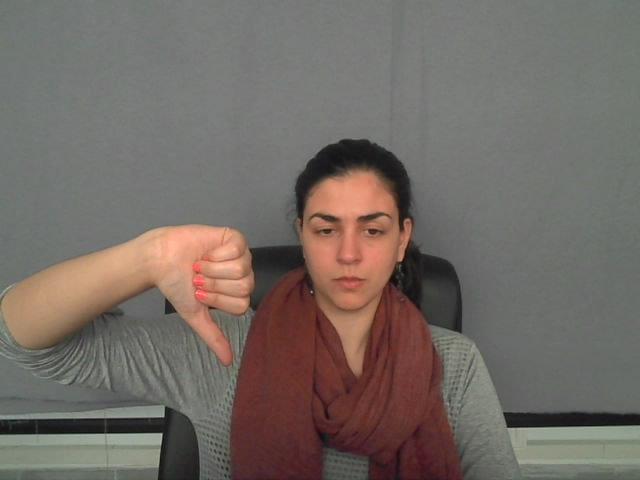down: (111, 210, 289, 385)
